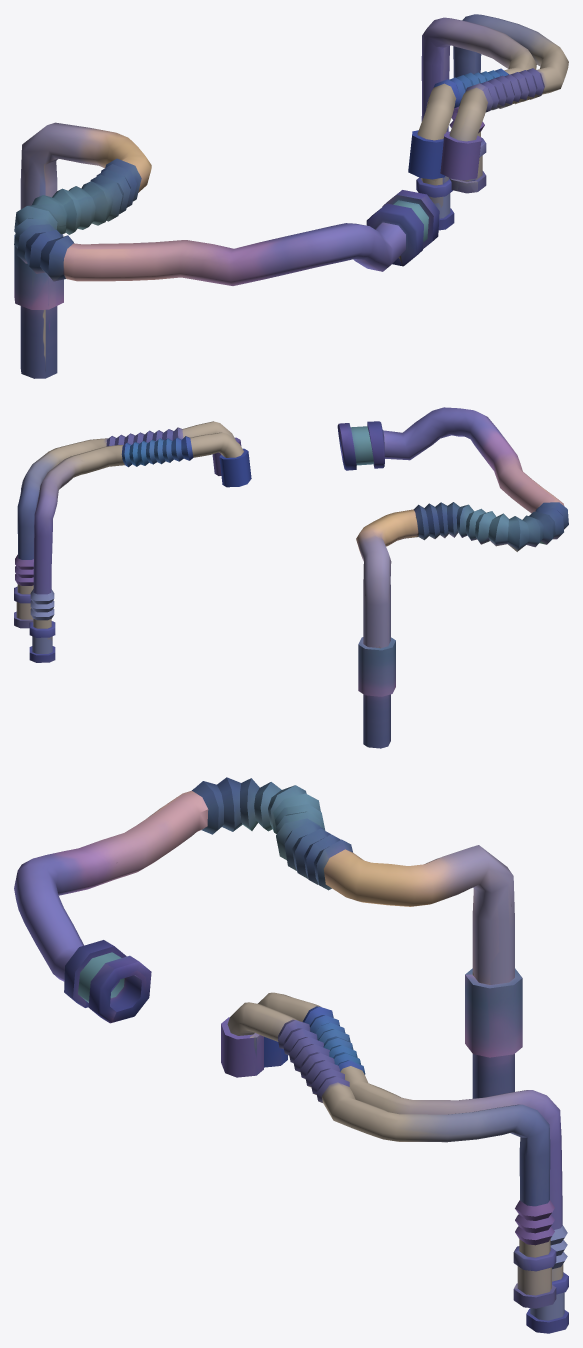
The model's file is award-pipe5.fbx.
The picture shows the model from 3 angles, top to bottom: view 1: azimuth 30°, elevation 25°; view 2: azimuth 150°, elevation 25°; view 3: azimuth 270°, elevation 25°; orthographic projection. The views are drawn at different scales.
Parts seen in each view (by area): view 1: pipe5; view 2: pipe5; view 3: pipe5.
Part boxes in pixels (x1=…): pipe5: x1=14, y1=14, x2=568, y2=378; pipe5: x1=14, y1=407, x2=568, y2=748; pipe5: x1=14, y1=777, x2=568, y2=1333.
Bounding box in the file's own units: 1223 × 517 × 854.
